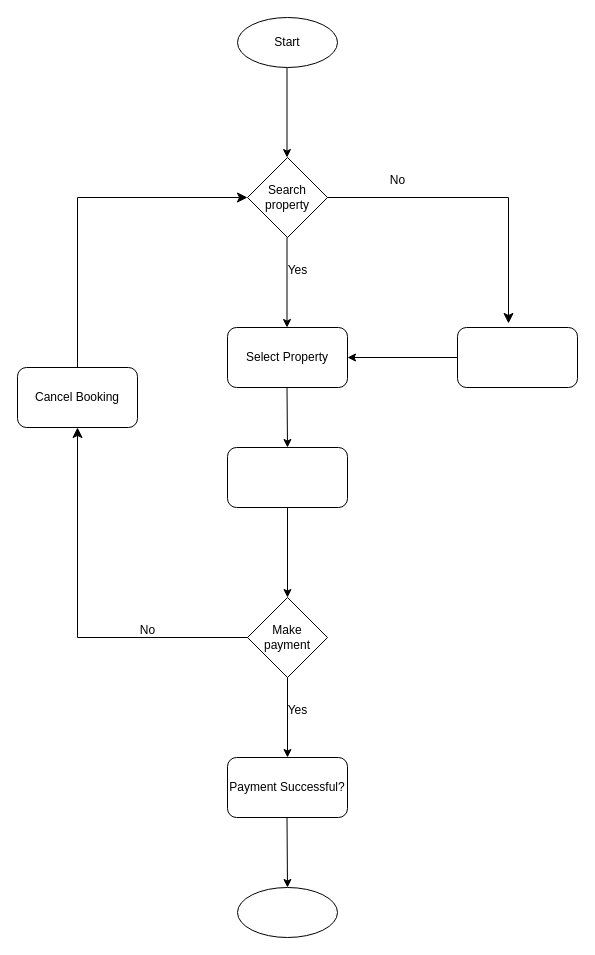
Image size: 595x955. Some labels were removed from this diagram. The shapes that lost their labels are listed below. From the top down, each one's box as (x1, y1, x2, y2) in pixels, then its label:
(456, 326, 578, 388): View Listings
(226, 446, 348, 508): Enter Booking details
(236, 886, 338, 938): End
